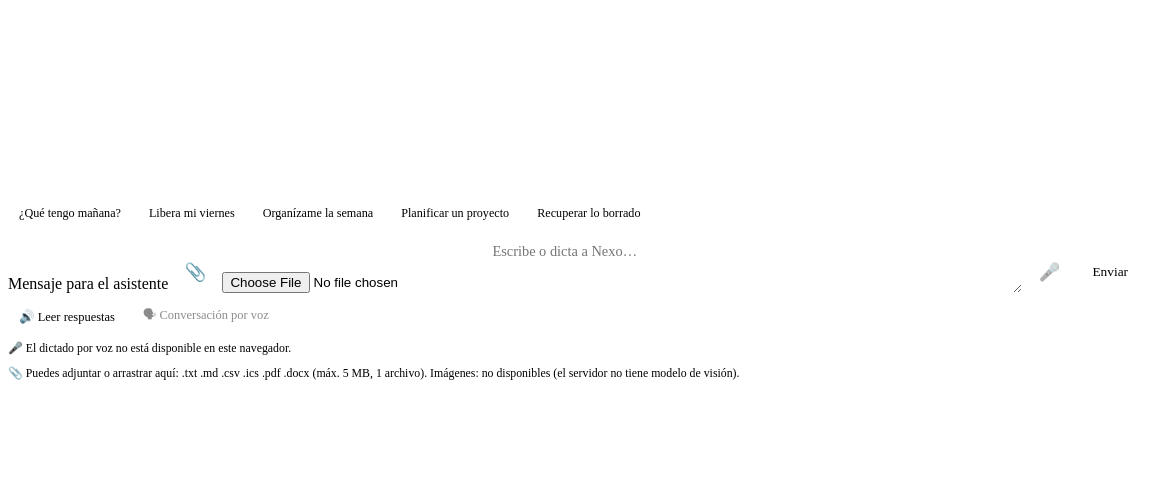
Test case: ChatIA › aclaración: elegir una opción responde con aclaracionId y respuestas
Type "mañana estudio" into the text box labelled "Mensaje para el asistente" at (752, 263), box [481,233,1022,293]
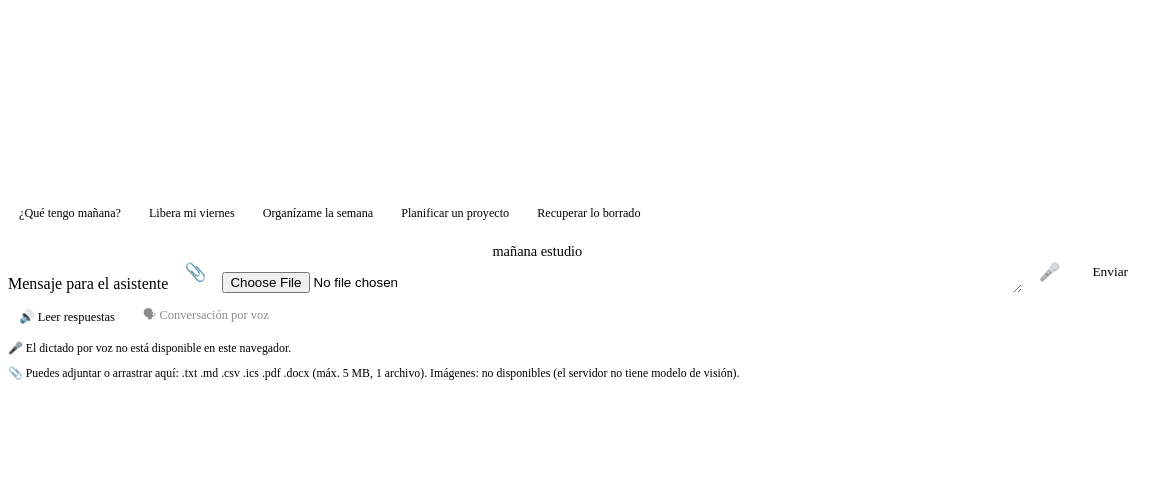
Submit the form, box [8,233,1144,293]
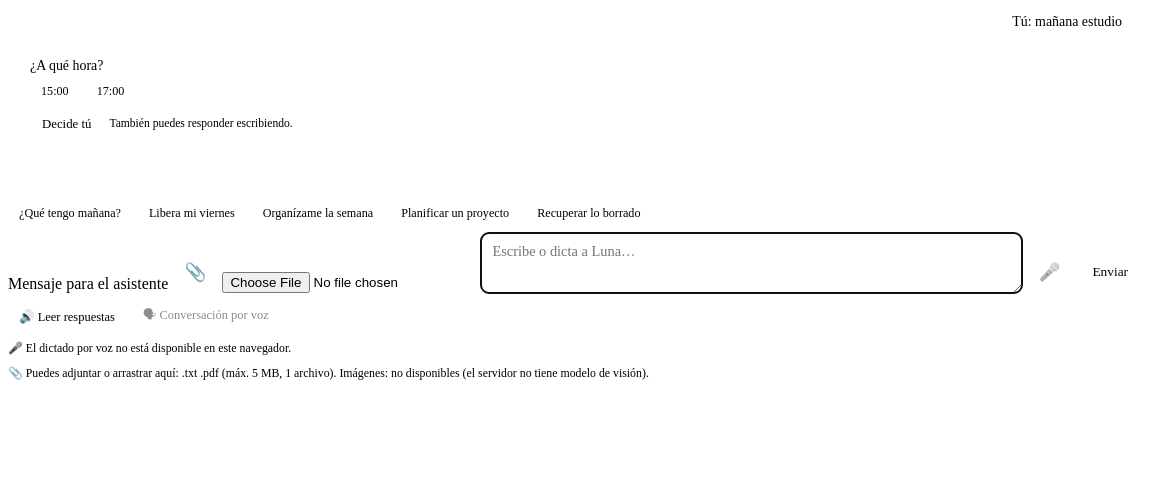
Click the button "15:00" at (55, 92), box [30,80,80,103]
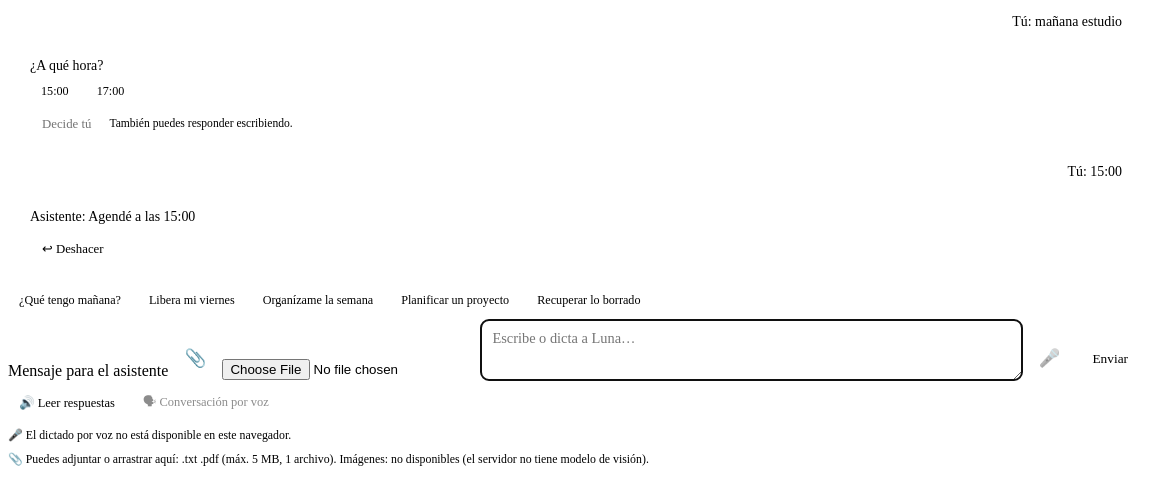
expect the text "Agendé a las 15:00" is shown: met, box [88,208,195,224]
